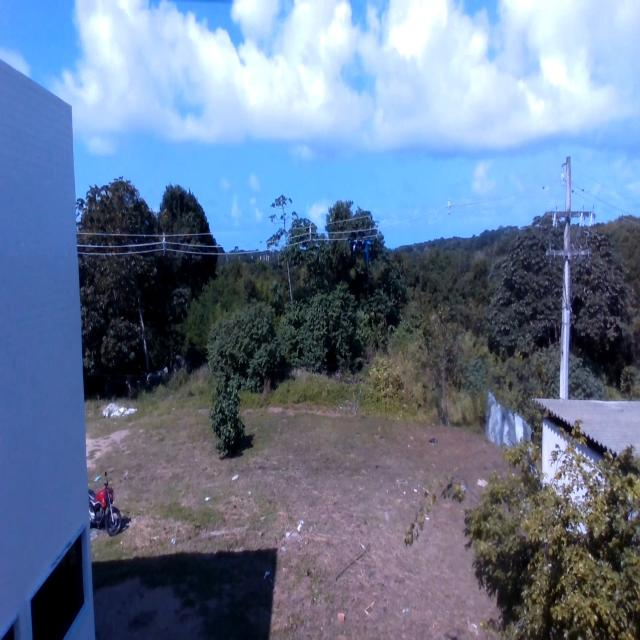-uav-: (342, 223, 382, 269)
